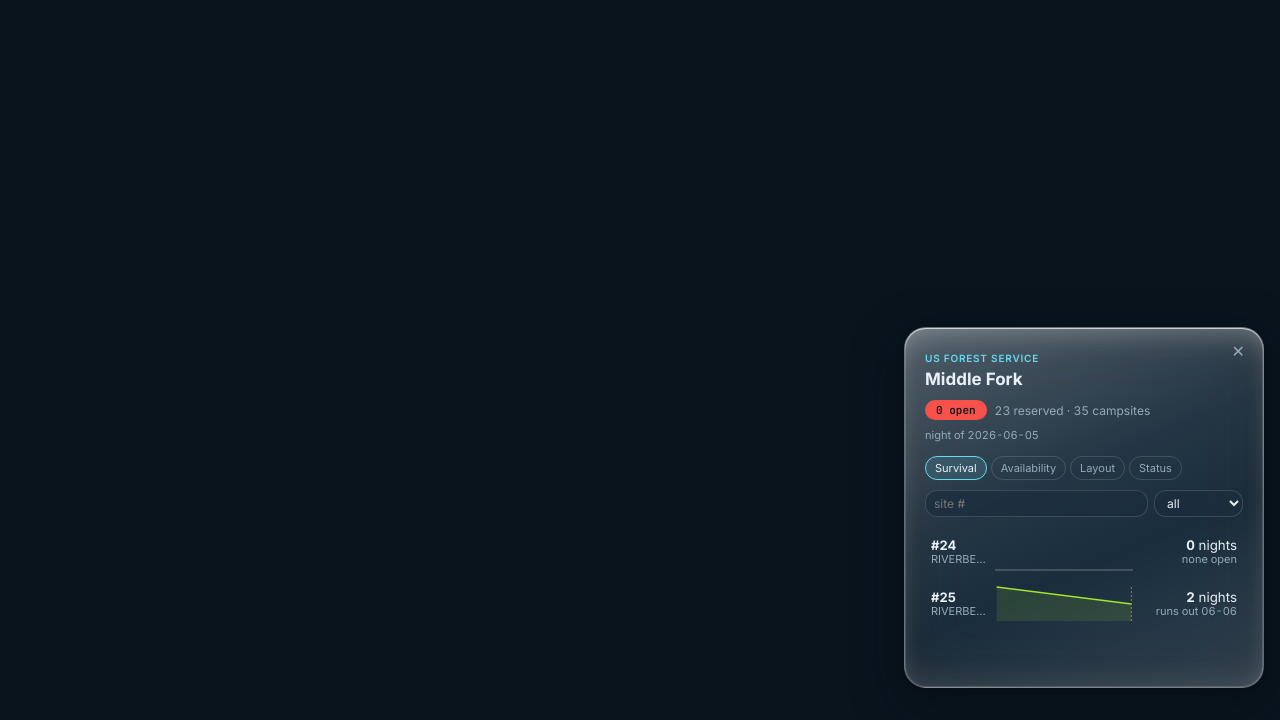
Middle Fork — per-location panes (the validated case) › shows a zoomed loop-cluster layout
Note: Layout pane: campsites clustered by loop, each an availability bar.
Click the tab "Layout" at (1098, 468), box [1070,456,1125,480]
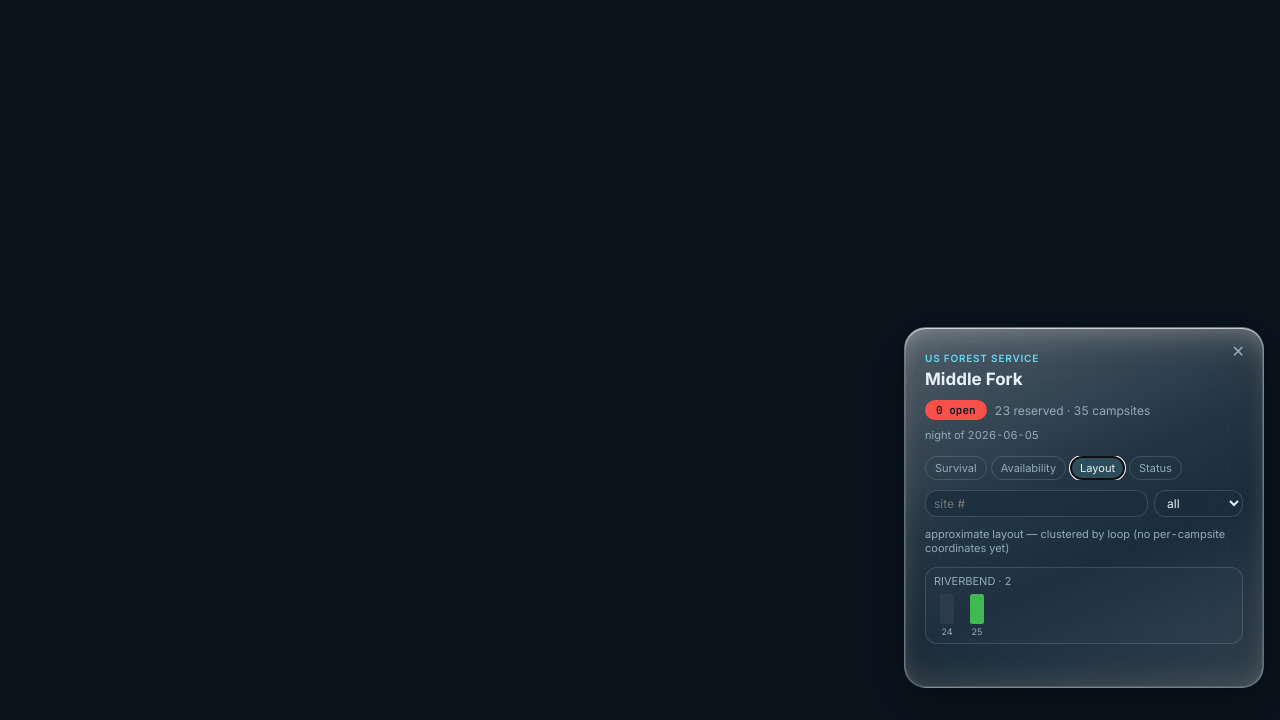
Expected: the button "24" is shown, [934,594,960,637]
Expected: the text "approximate layout" is shown, [925,527,1225,555]
Expected: the text "RIVERBEND · 2" is shown, [934,574,1012,588]
